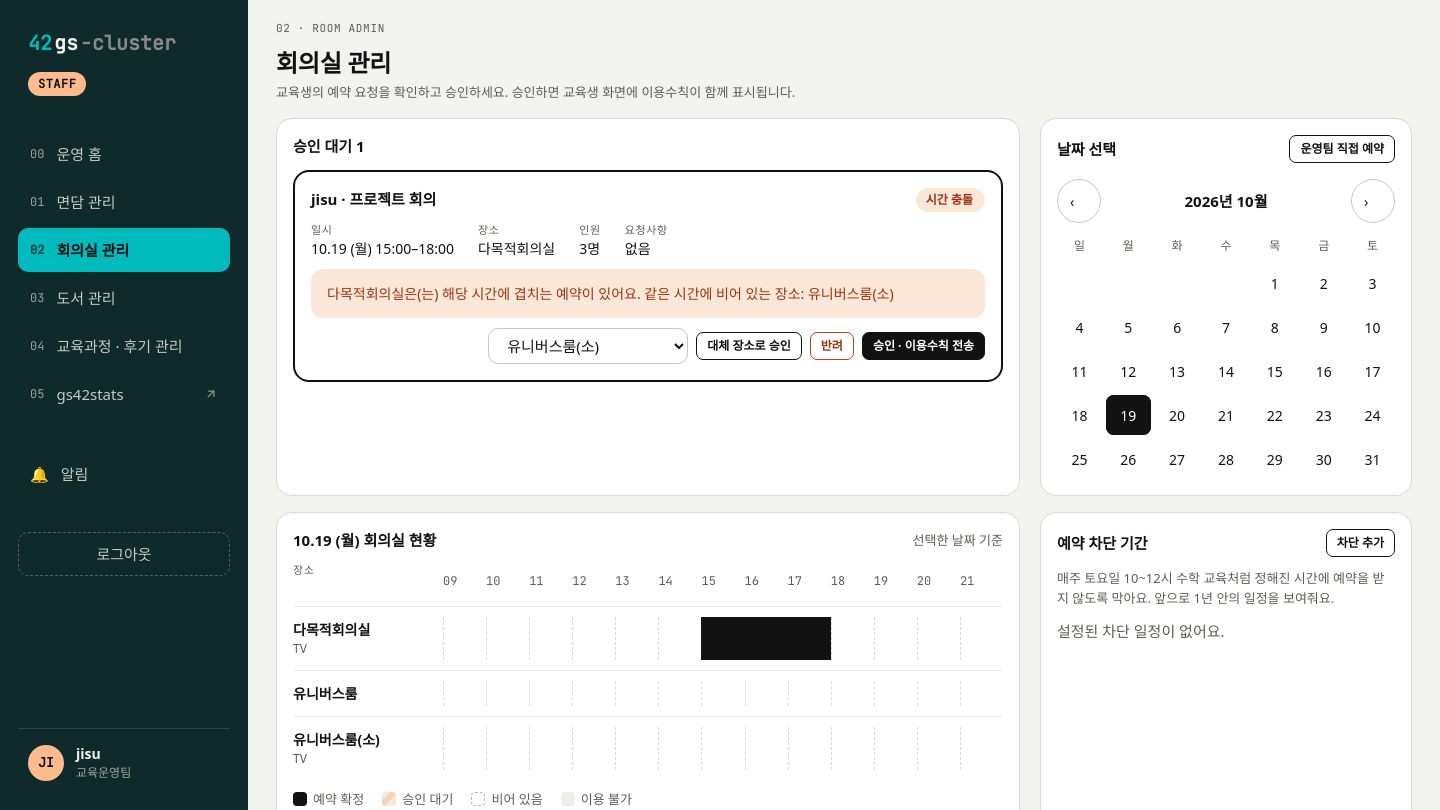
Test: 운영 회의실 관리 화면 › 이미 승인된 예약과 겹치면(409) 안내하고 대기 상태를 유지한다
The width and height of the screenshot is (1440, 810).
Check: the heading "회의실 관리" is shown, box left=276, top=46, right=391, bottom=78
Click the button "승인 · 이용수칙 전송" at (923, 346), box left=862, top=332, right=985, bottom=360
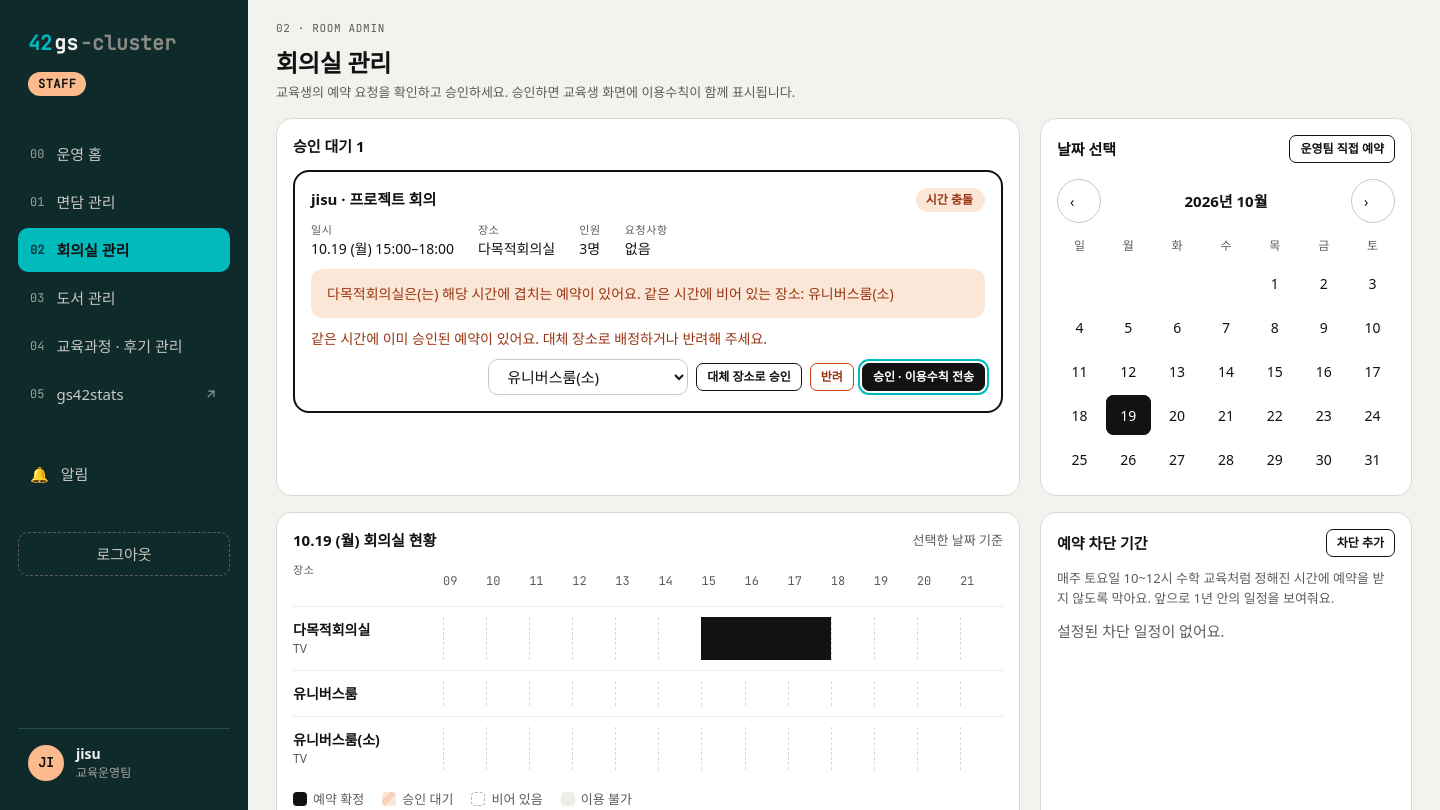
Check: the element with test id "pending-11" is shown, box left=293, top=170, right=1003, bottom=413
Check: the message shows "이미 승인된 예약이 있어요", box left=311, top=329, right=767, bottom=348
